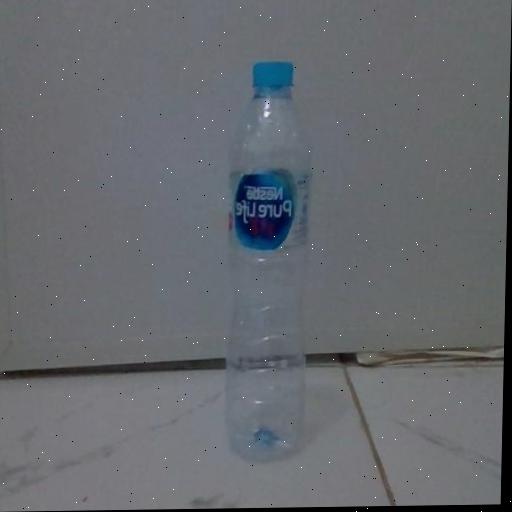bottle: (213, 44, 326, 481)
